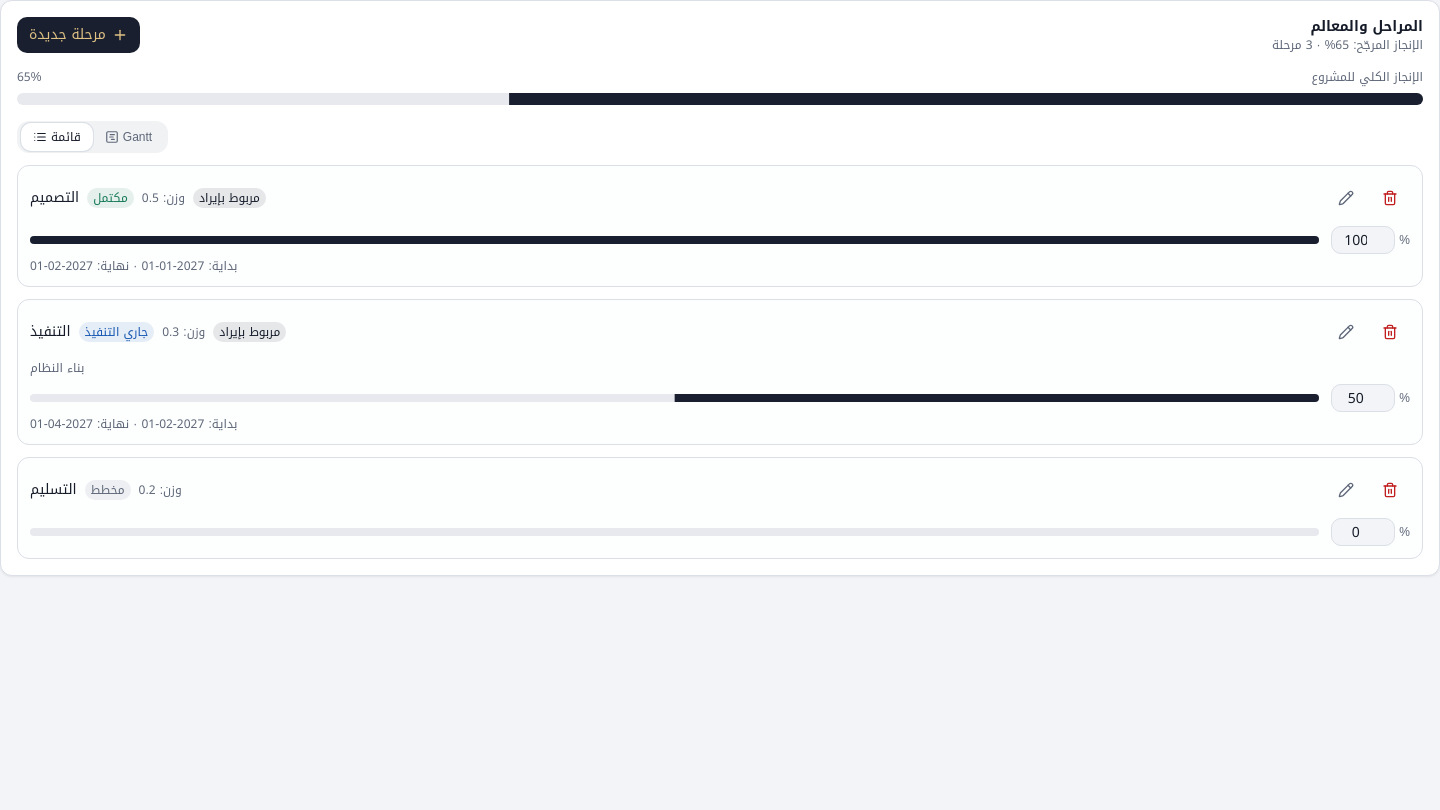
Scenario: editing a milestone › offers to invoice the linked planned revenue when the milestone completes
Later steps or results of the test are not shown.
Click the button named "تعديل المرحلة" in the row of "0.3" at (1346, 332), box [1326,312,1366,352]
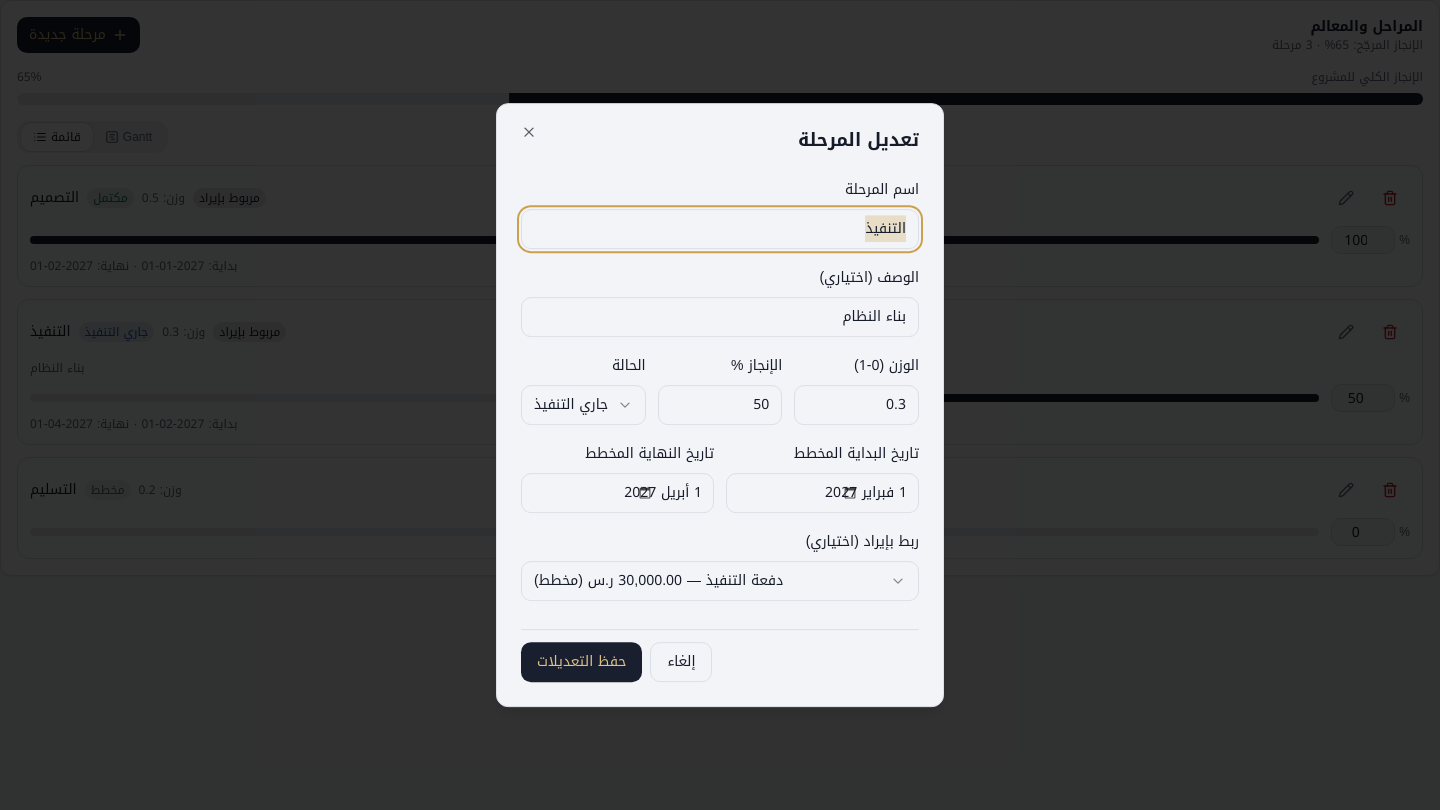
Replace the text in the number field labelled "الإنجاز %" with "100" at (720, 405), box [658,385,782,425]
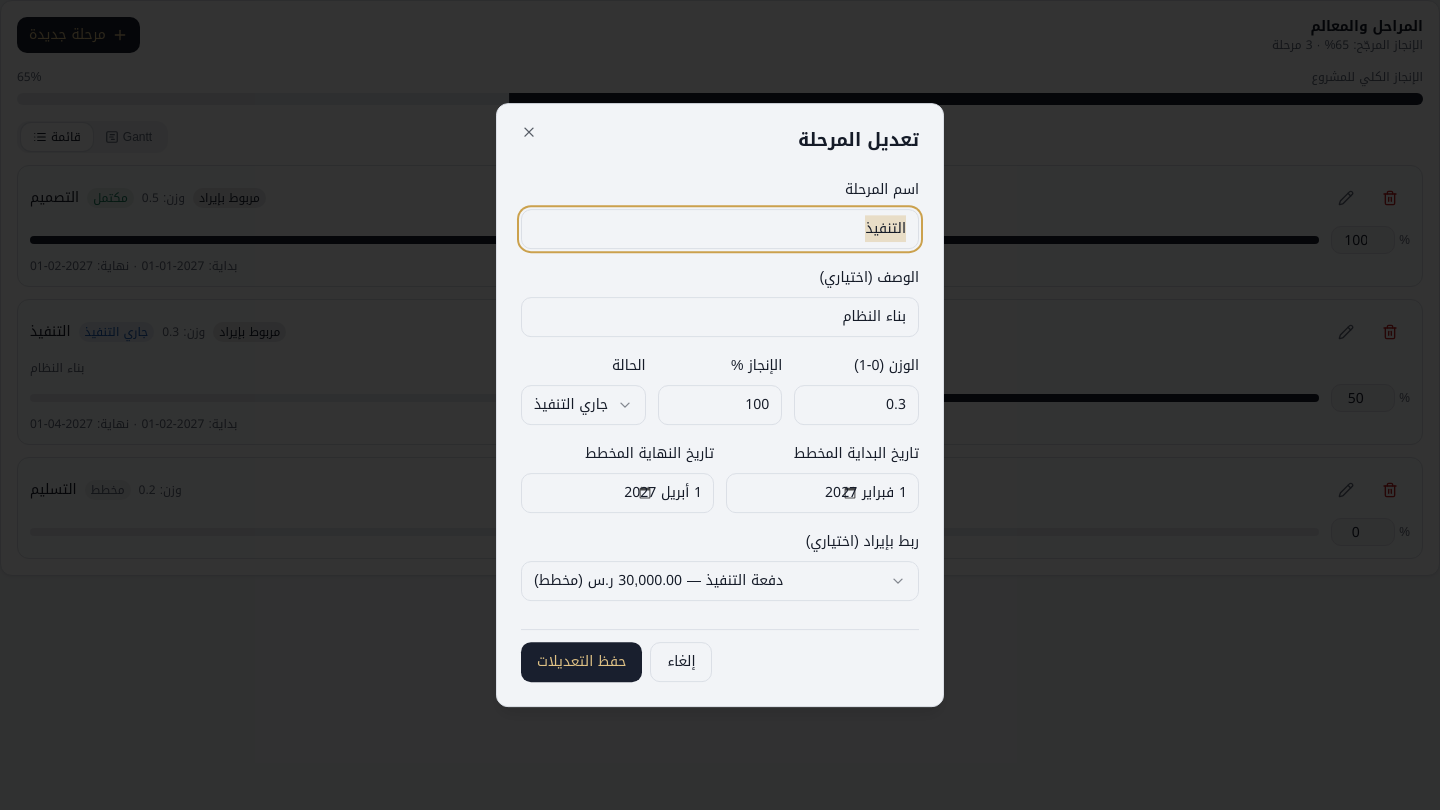
Click the button "حفظ التعديلات" at (582, 662), box [521,642,642,682]
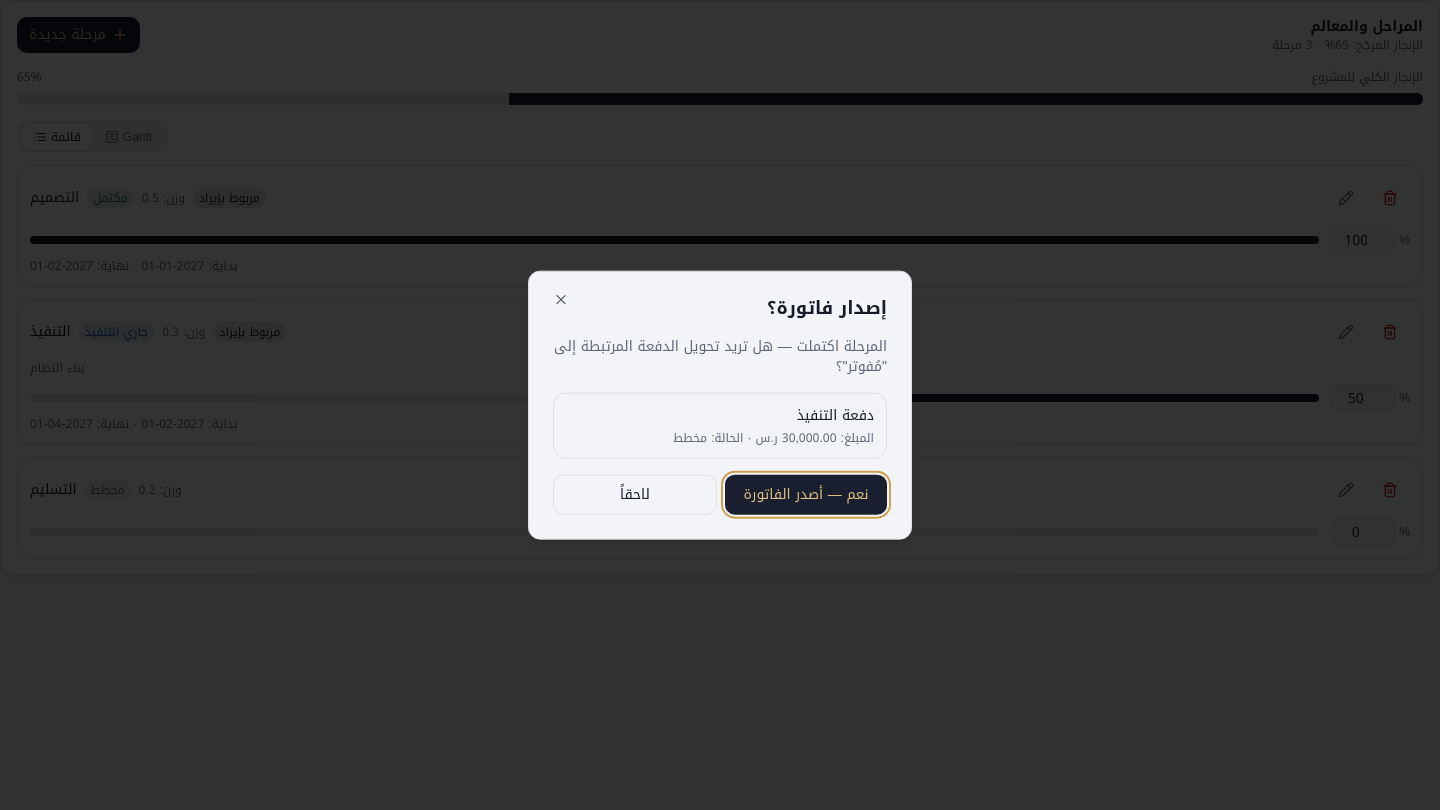
Expected: the text "دفعة التنفيذ" is shown, [797,401,874,428]
